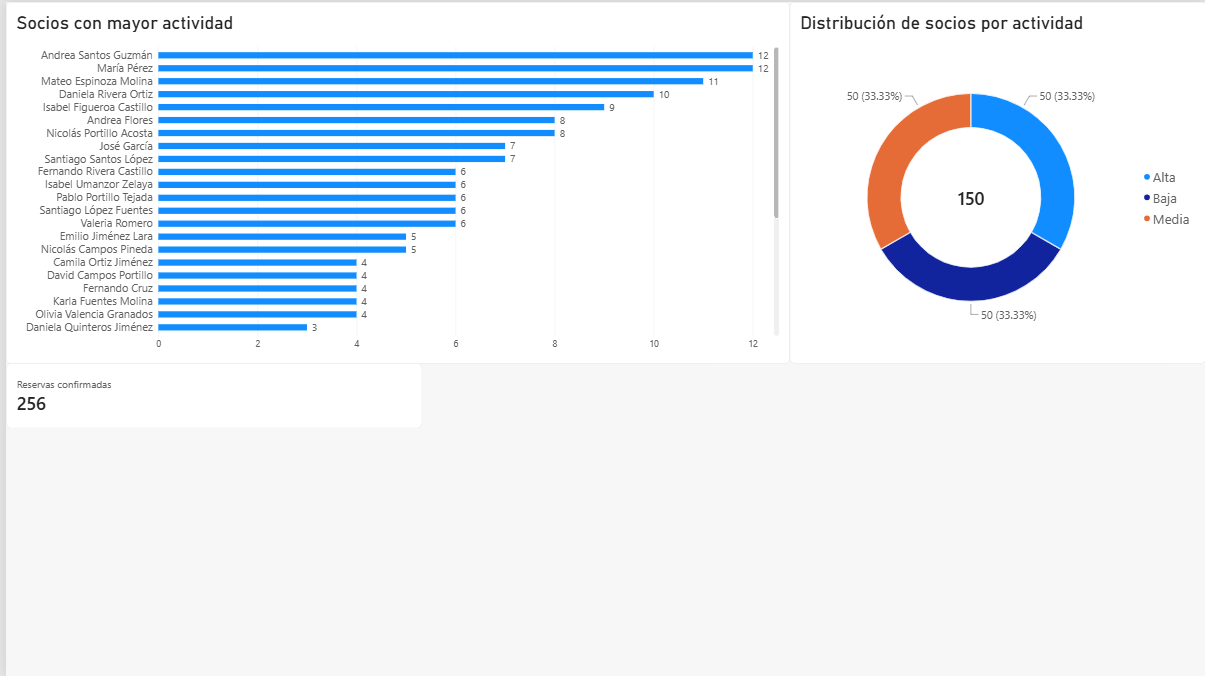

This screenshot's page, from the dashboard's own definition file:
{"tool":"powerbi","page":{"name":"Actividad de Socios","canvas":[1920,1080],"ordinal":0},"visuals":[{"type":"clusteredBarChart","title":"Socios con mayor actividad","fields":{"Category":["reportes vw_Consulta3_RankingSocios.socio"],"Y":["Sum(reportes vw_Consulta3_RankingSocios.reservas_confirmadas)"]},"box":[0,0,1254,578],"z":0},{"type":"donutChart","title":"Distribución de socios por actividad","fields":{"Category":["reportes vw_Consulta3_RankingSocios.grupo_actividad"],"Y":["Count(reportes vw_Consulta3_RankingSocios.id_socio)"]},"box":[1254,0,666,578],"z":1000},{"type":"cardVisual","fields":{"Data":["Sum(reportes vw_Consulta3_RankingSocios.reservas_confirmadas)"]},"box":[0,578,666,104],"z":2000}]}

Visuals, with their boxes in screenshot pixels (x1, y1, x2, y2), scaled from the page's 1920x1080 canvas onto the 1205x676 screenshot:
"Socios con mayor actividad" clusteredBarChart: (x1=0, y1=0, x2=787, y2=362)
"Distribución de socios por actividad" donutChart: (x1=787, y1=0, x2=1204, y2=362)
cardVisual - Sum(reportes vw_Consulta3_RankingSocios.reservas_confirmadas): (x1=0, y1=362, x2=418, y2=427)
